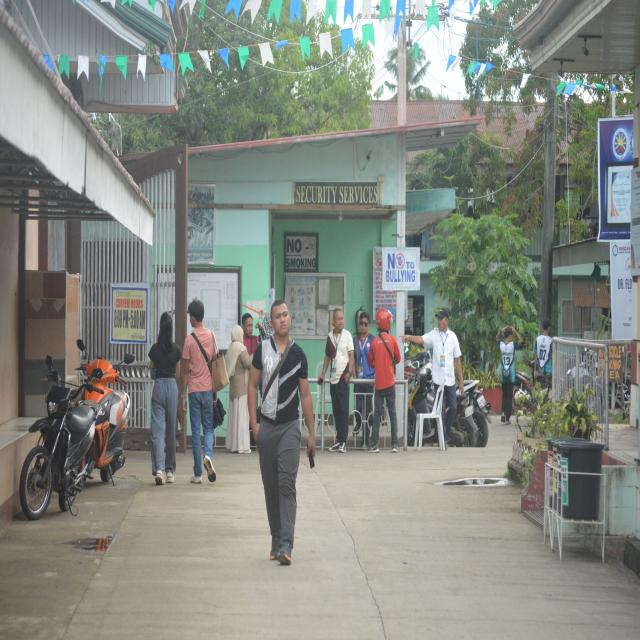person: (249, 300, 315, 564), (401, 308, 463, 448), (181, 299, 217, 483), (149, 312, 181, 485), (318, 309, 353, 452), (367, 309, 400, 452), (226, 326, 252, 453), (354, 312, 374, 446), (496, 326, 521, 424), (534, 319, 552, 381), (242, 314, 258, 356)
